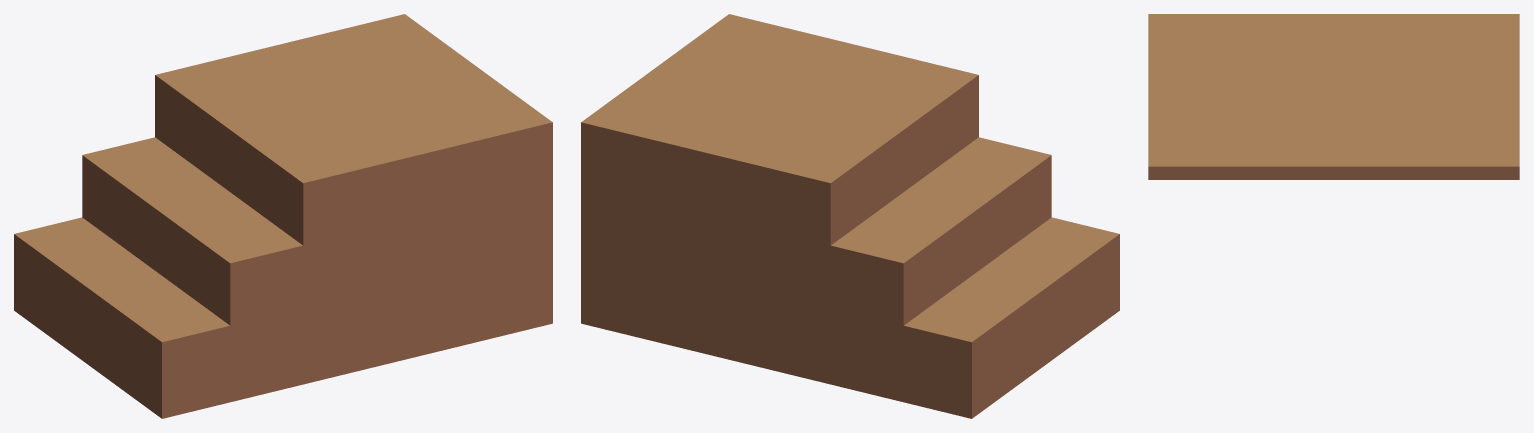
Rendered from Scene (Steps).fbx.
The picture shows the model from 3 angles, left to right: view 1: azimuth 30°, elevation 25°; view 2: azimuth 150°, elevation 25°; view 3: azimuth 270°, elevation 25°; orthographic projection. The views are drawn at different scales.
Parts seen in each view (by area): view 1: Scene (Steps); view 2: Scene (Steps); view 3: Scene (Steps).
Boxes of the visible parts, <box> form: Scene (Steps): <box>14,14,552,418</box>; Scene (Steps): <box>581,14,1119,418</box>; Scene (Steps): <box>1148,14,1519,179</box>.
Size of the model in its own units: 264 by 130 by 173.
